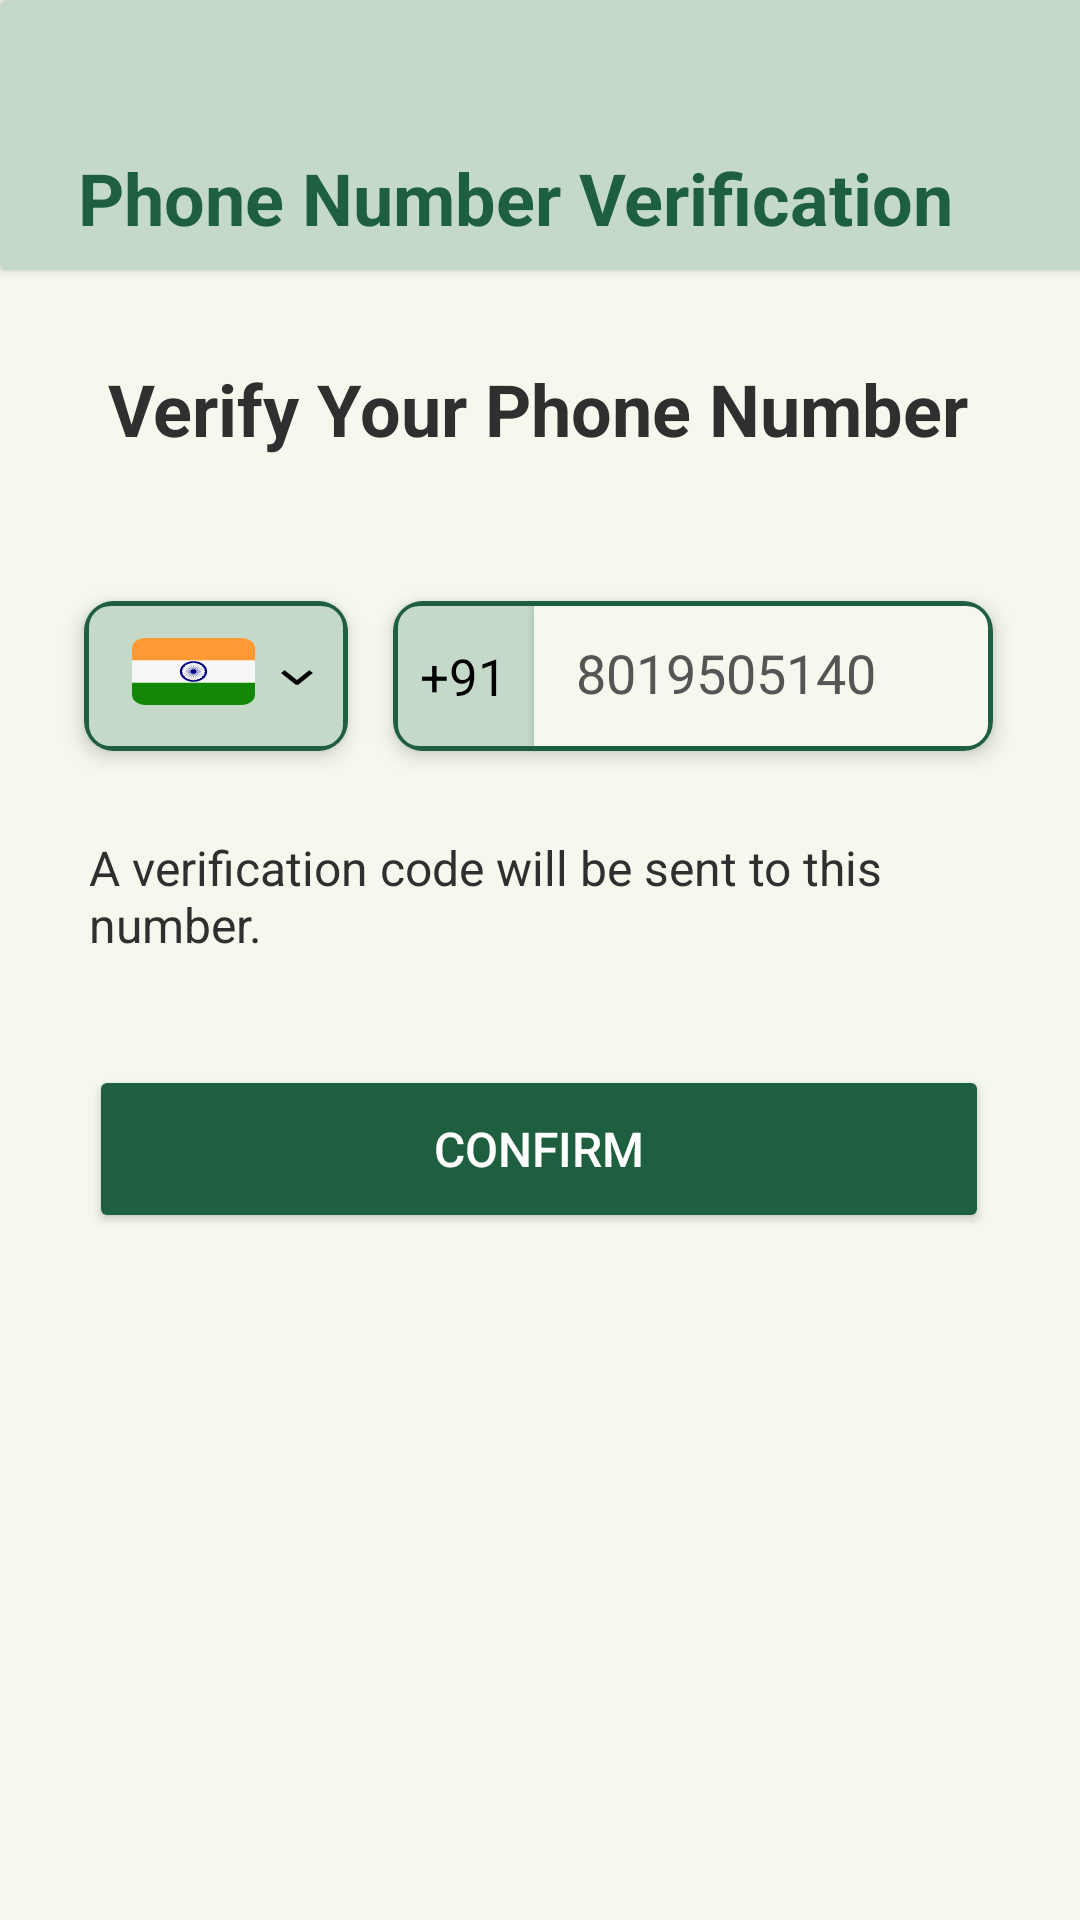

Icons on this 1080×1920 Android screen, each with the point to tap as (x=x, y=y):
countrycode: (x=222, y=671)
